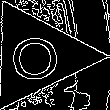O_N: (12, 29, 63, 82)
